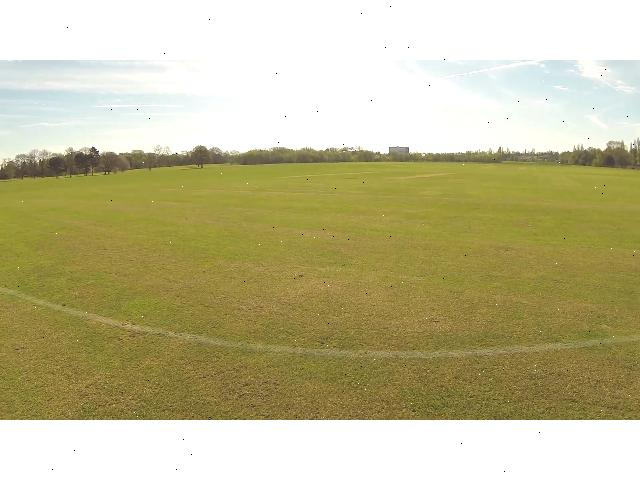Anti-Drone: (342, 145, 364, 157)
